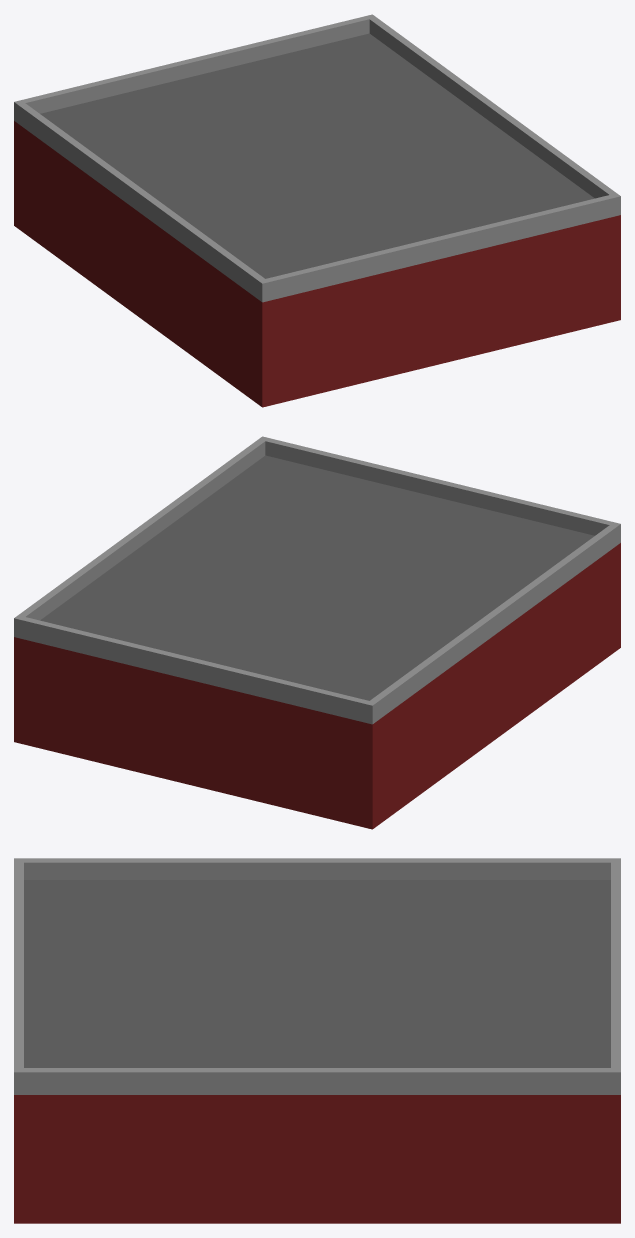
Rendered from Building_25_30_70.FBX.
3 views of the same model, one above another, from view 1: azimuth 30°, elevation 25°; view 2: azimuth 150°, elevation 25°; view 3: azimuth 270°, elevation 25° (orthographic). The views are drawn at different scales.
Parts seen in each view (by area): view 1: BakedBuilding_2014741032840529; view 2: BakedBuilding_2014741032840529; view 3: BakedBuilding_2014741032840529.
Boxes of the visible parts, x1=… form: BakedBuilding_2014741032840529: x1=14, y1=14, x2=620, y2=407; BakedBuilding_2014741032840529: x1=14, y1=436, x2=620, y2=829; BakedBuilding_2014741032840529: x1=14, y1=858, x2=620, y2=1223.
Size of the model in its own units: 2500 by 825 by 3000.
